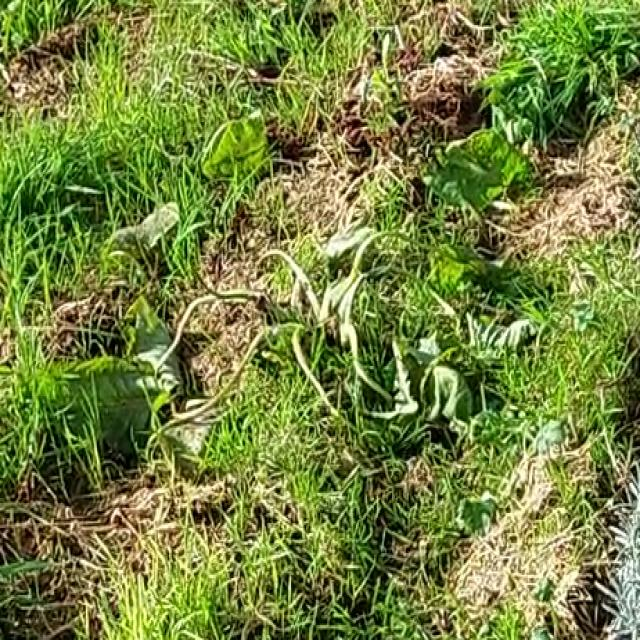organic waste: (31, 102, 574, 513)
